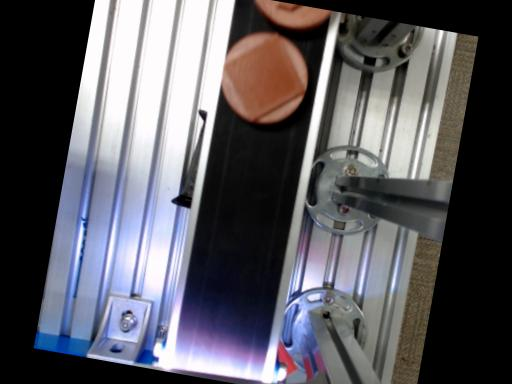Brown_Waper: (222, 30, 308, 123), (255, 0, 331, 31)
